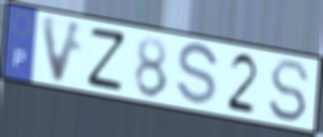2: (226, 52, 261, 117)
8: (131, 34, 172, 99)
S: (174, 41, 221, 109), (267, 57, 312, 125)
V: (38, 12, 87, 87)
Z: (86, 25, 128, 93)
